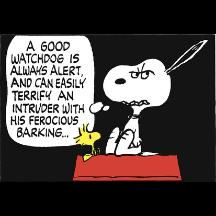snoopy: (100, 38, 210, 158)
